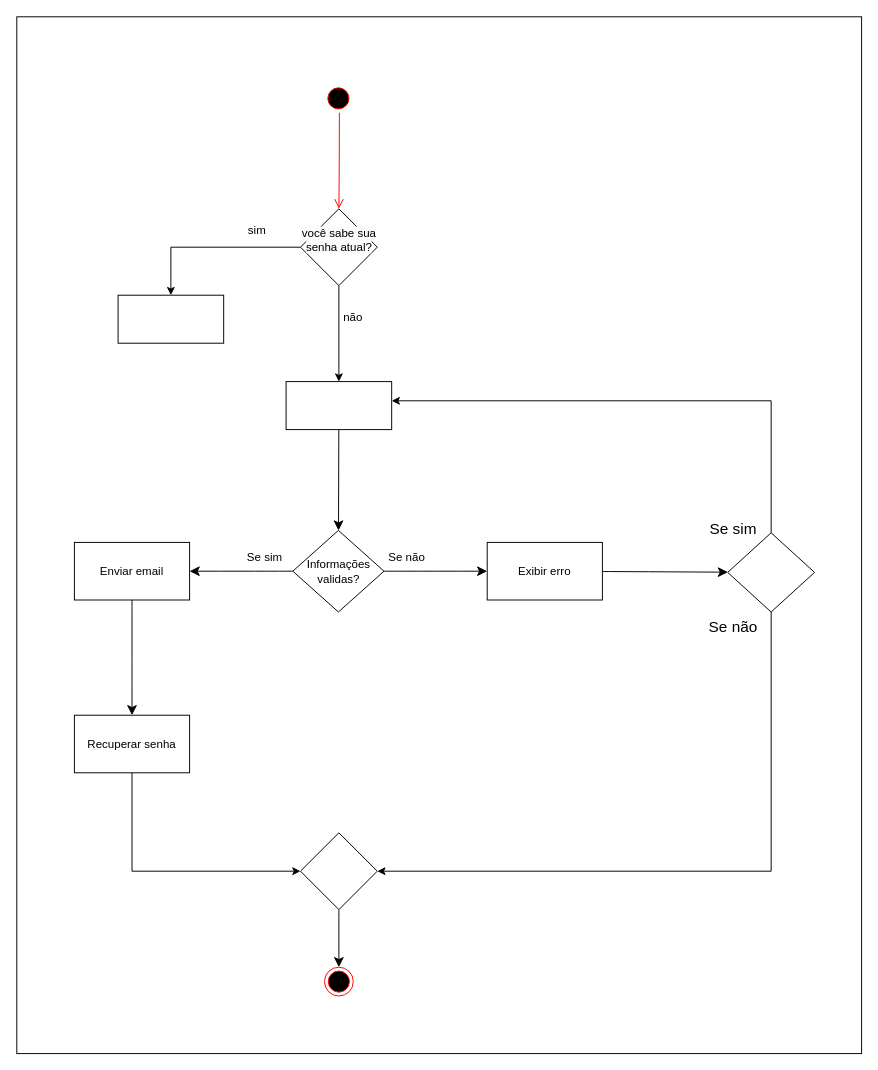
Image size: 878x1070. Some labels were removed from this diagram. Here are the shapes that lost their labels. From the top down, the centre of each, then its label:
the point at 170,318: use ela
the point at 338,405: Inserir informações de recuperação
the point at 771,572: Tentar novamente?
